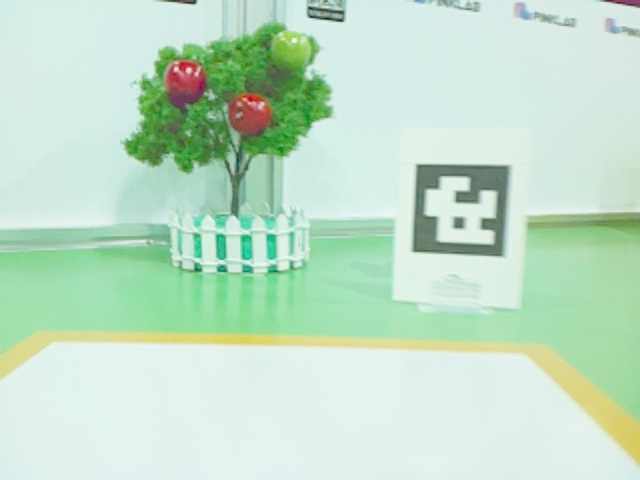apple: (229, 93, 271, 134), (166, 61, 206, 97)
